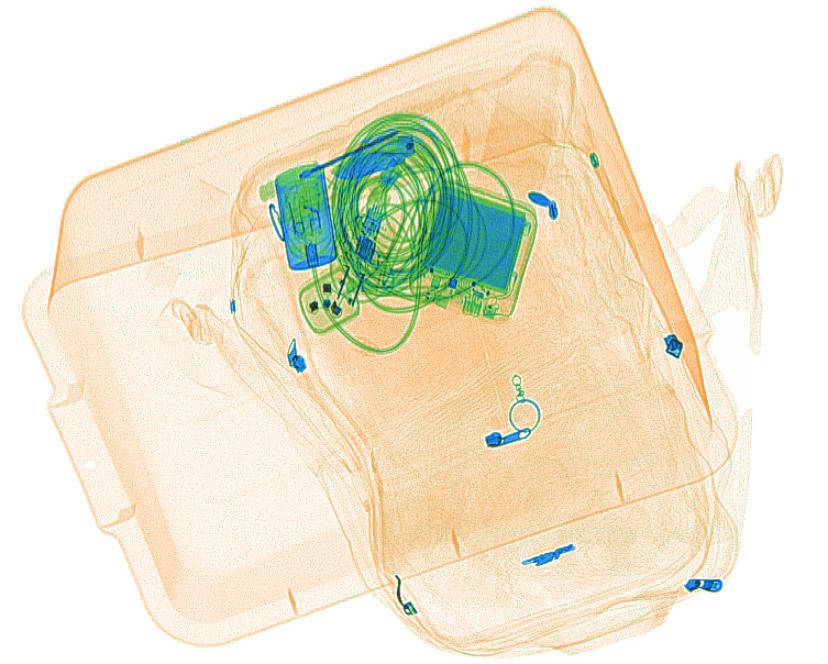knife: (328, 134, 416, 180)
